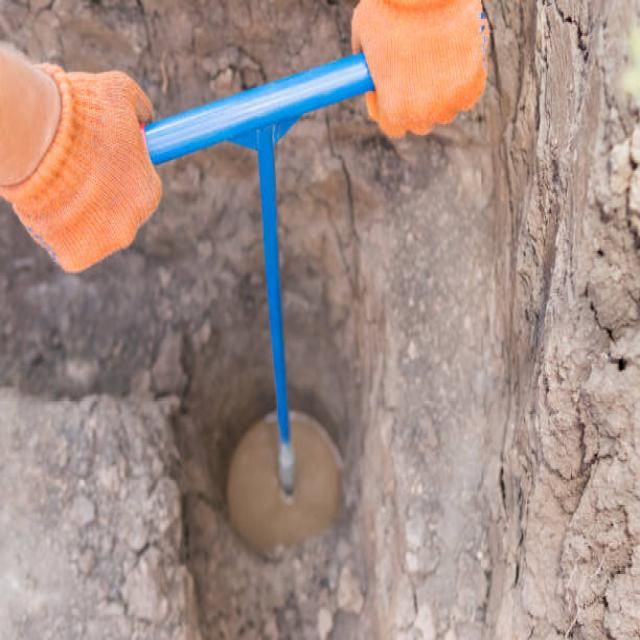gloves: (0, 63, 164, 276)
